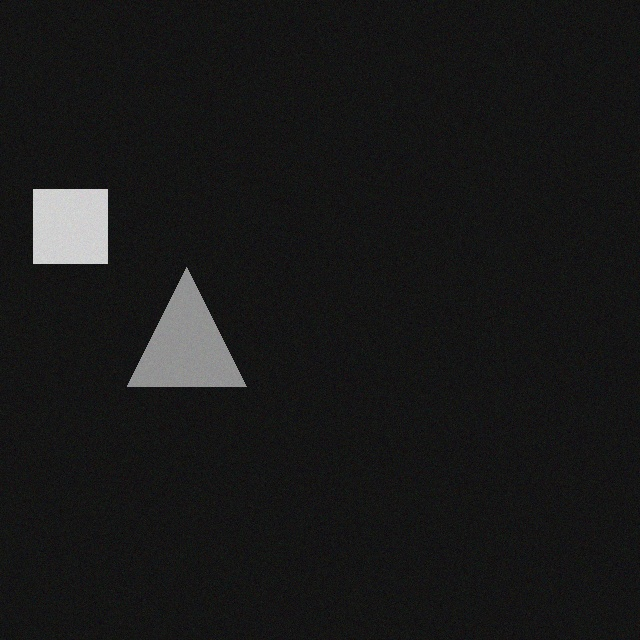square: (26, 190, 100, 264)
triangle: (120, 268, 239, 387)
